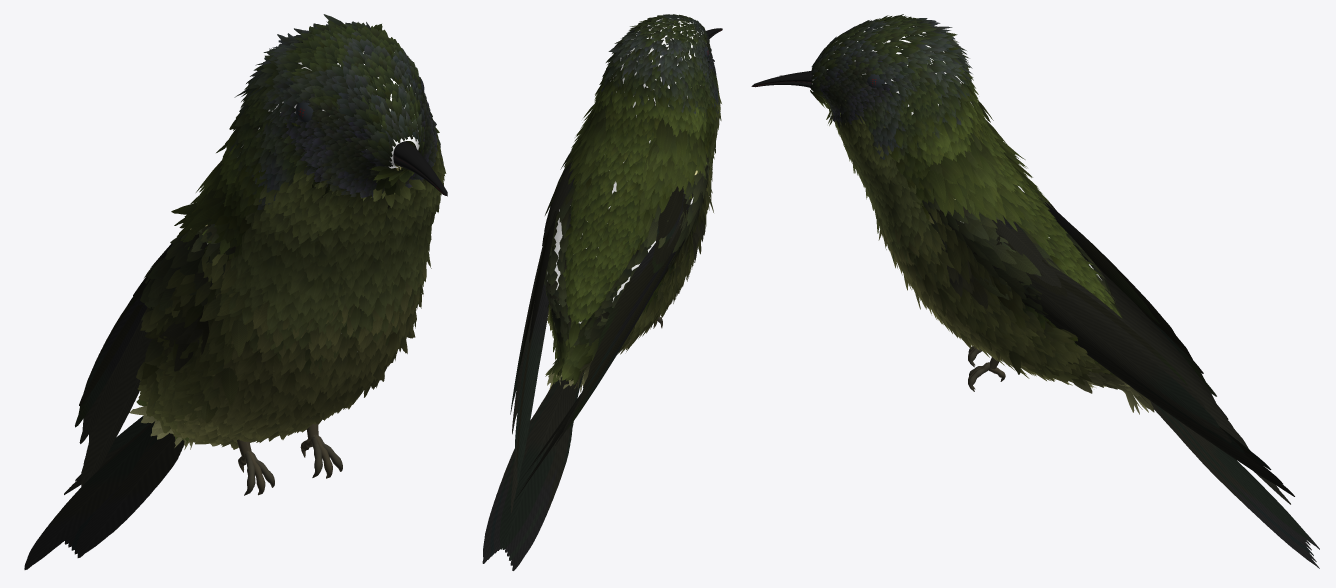
The model's file is manu-korimako.glb.
3 views of the same model, side by side, from view 1: azimuth 30°, elevation 25°; view 2: azimuth 150°, elevation 25°; view 3: azimuth 270°, elevation 25° (orthographic). The views are drawn at different scales.
Visible parts, largest first — view 1: contour_feathers, wing_and_tail_feathers, legs_and_feet, bill; view 2: contour_feathers, wing_and_tail_feathers, body_skin; view 3: contour_feathers, wing_and_tail_feathers, legs_and_feet.
Boxes of the visible parts, bbox=[...] form: contour_feathers: bbox=[129, 14, 446, 449]; wing_and_tail_feathers: bbox=[24, 166, 402, 569]; legs_and_feet: bbox=[237, 76, 424, 495]; bill: bbox=[393, 141, 447, 196]; contour_feathers: bbox=[545, 14, 721, 392]; wing_and_tail_feathers: bbox=[482, 147, 710, 570]; body_skin: bbox=[547, 18, 703, 323]; contour_feathers: bbox=[810, 14, 1154, 414]; wing_and_tail_feathers: bbox=[922, 193, 1319, 568]; legs_and_feet: bbox=[867, 74, 1005, 391].
Bounding box in the file's own units: 0.0567 × 0.1614 × 0.1549.
4 materials, 1 textured.
